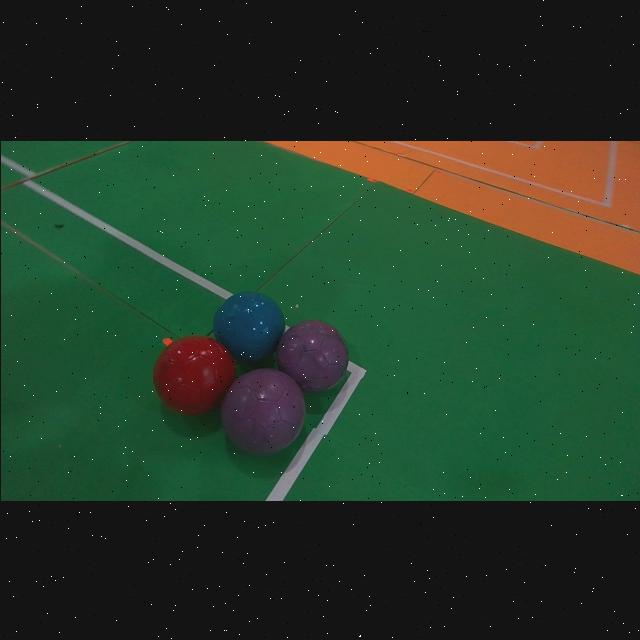B: (212, 291, 284, 361)
P: (219, 368, 305, 454), (275, 319, 347, 391)
R: (152, 335, 235, 415)
